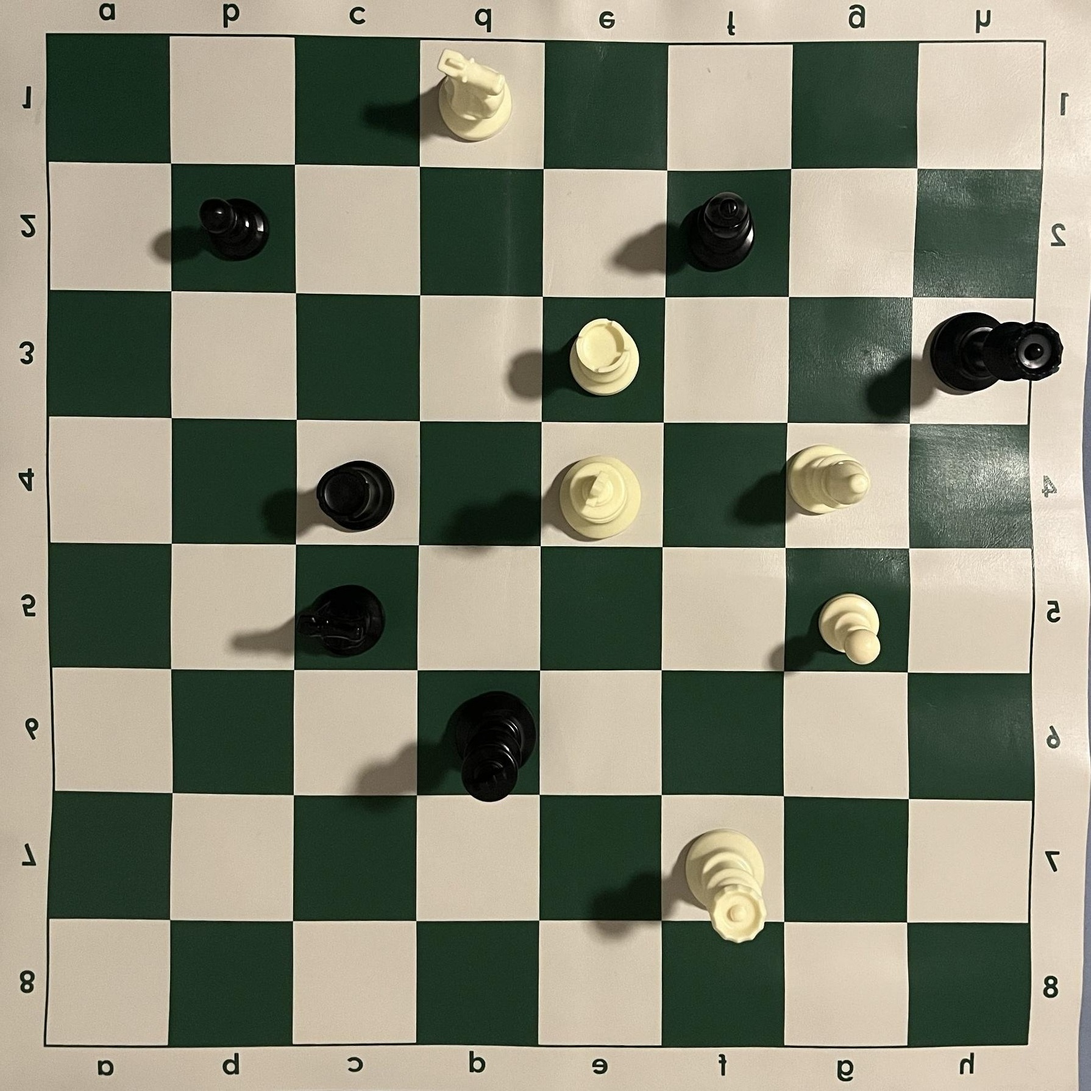black_bishop: (684, 191, 756, 274)
black_king: (447, 689, 538, 804)
black_knight: (296, 584, 386, 658)
black_pawn: (198, 197, 269, 261)
black_queen: (929, 311, 1064, 394)
black_rook: (315, 460, 395, 532)
white_bishop: (786, 444, 870, 516)
white_king: (558, 454, 641, 539)
white_knight: (436, 48, 514, 142)
white_pawn: (817, 593, 882, 666)
white_queen: (685, 828, 768, 944)
white_rook: (569, 318, 641, 396)
